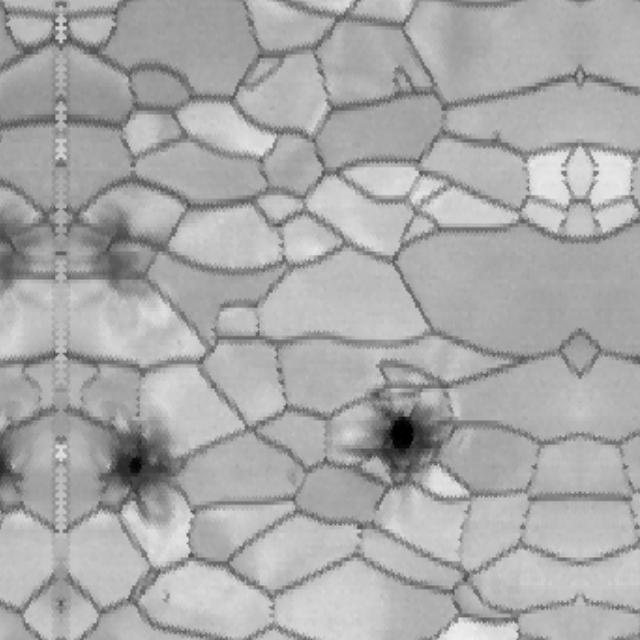good_void: (74, 193, 168, 331), (341, 390, 455, 489), (95, 420, 180, 537), (0, 193, 46, 324), (0, 425, 25, 527), (159, 585, 176, 614), (435, 390, 453, 402), (492, 130, 507, 142)
